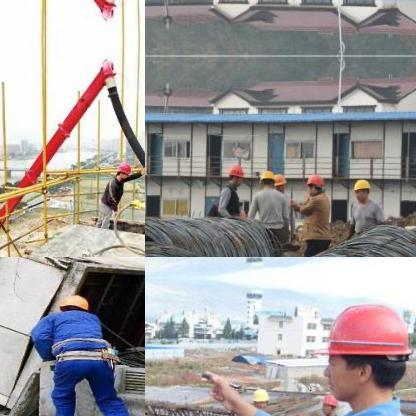Helmet: (322, 303, 408, 405), (57, 293, 91, 313), (350, 174, 372, 202), (250, 386, 270, 412), (224, 162, 245, 186), (302, 172, 324, 194), (258, 167, 276, 189), (113, 158, 132, 178), (320, 392, 336, 414), (270, 172, 286, 192)
